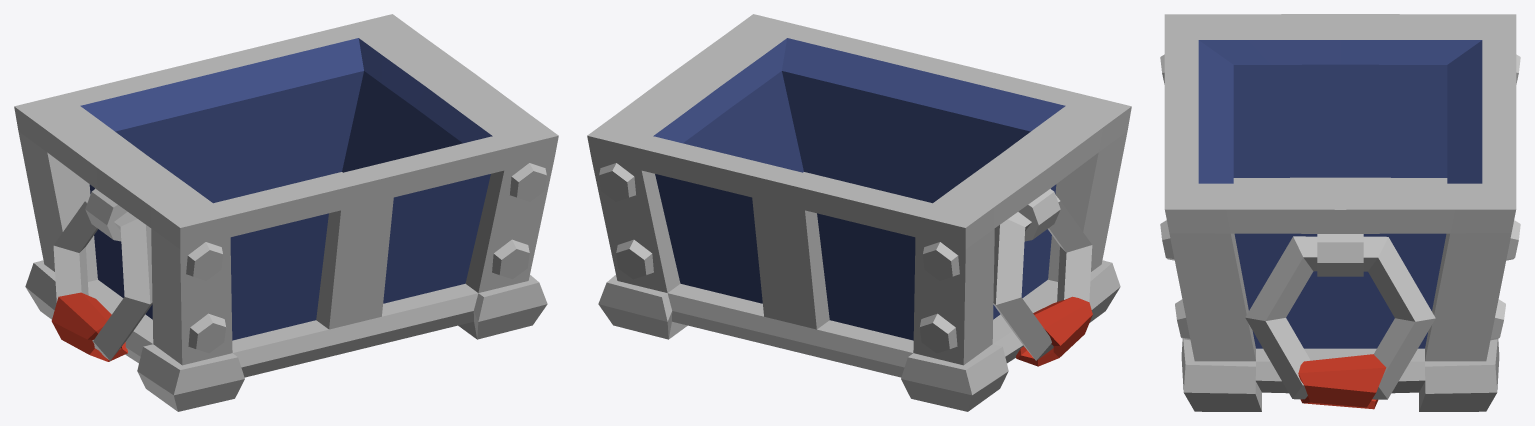
File: chest_silver_bottom.fbx
The picture shows the model from 3 angles, left to right: view 1: azimuth 30°, elevation 25°; view 2: azimuth 150°, elevation 25°; view 3: azimuth 270°, elevation 25°; orthographic projection. The views are drawn at different scales.
Visible parts, largest first — view 1: chest_silver_bottom; view 2: chest_silver_bottom; view 3: chest_silver_bottom.
Part boxes in pixels (x1,y1,x2,y2): chest_silver_bottom: (14, 14, 558, 411); chest_silver_bottom: (587, 14, 1131, 411); chest_silver_bottom: (1160, 14, 1520, 411).
Size of the model in its own units: 115 by 49.66 by 77.86.
